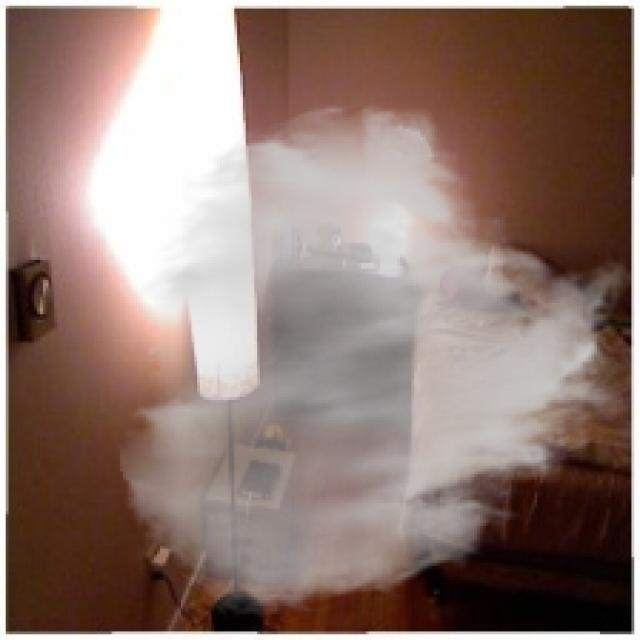smoke: (114, 100, 637, 620)
